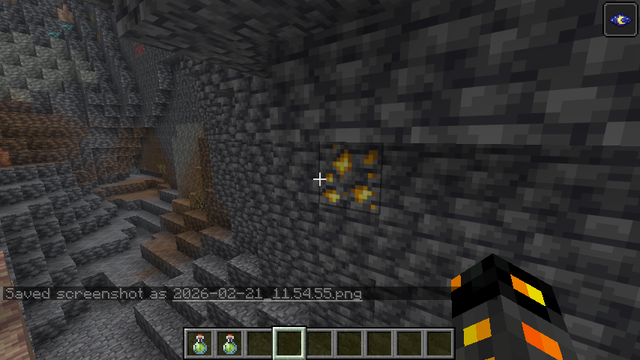diamond: (46, 20, 75, 42)
gold: (317, 142, 381, 214)
redstone: (131, 39, 148, 57)
